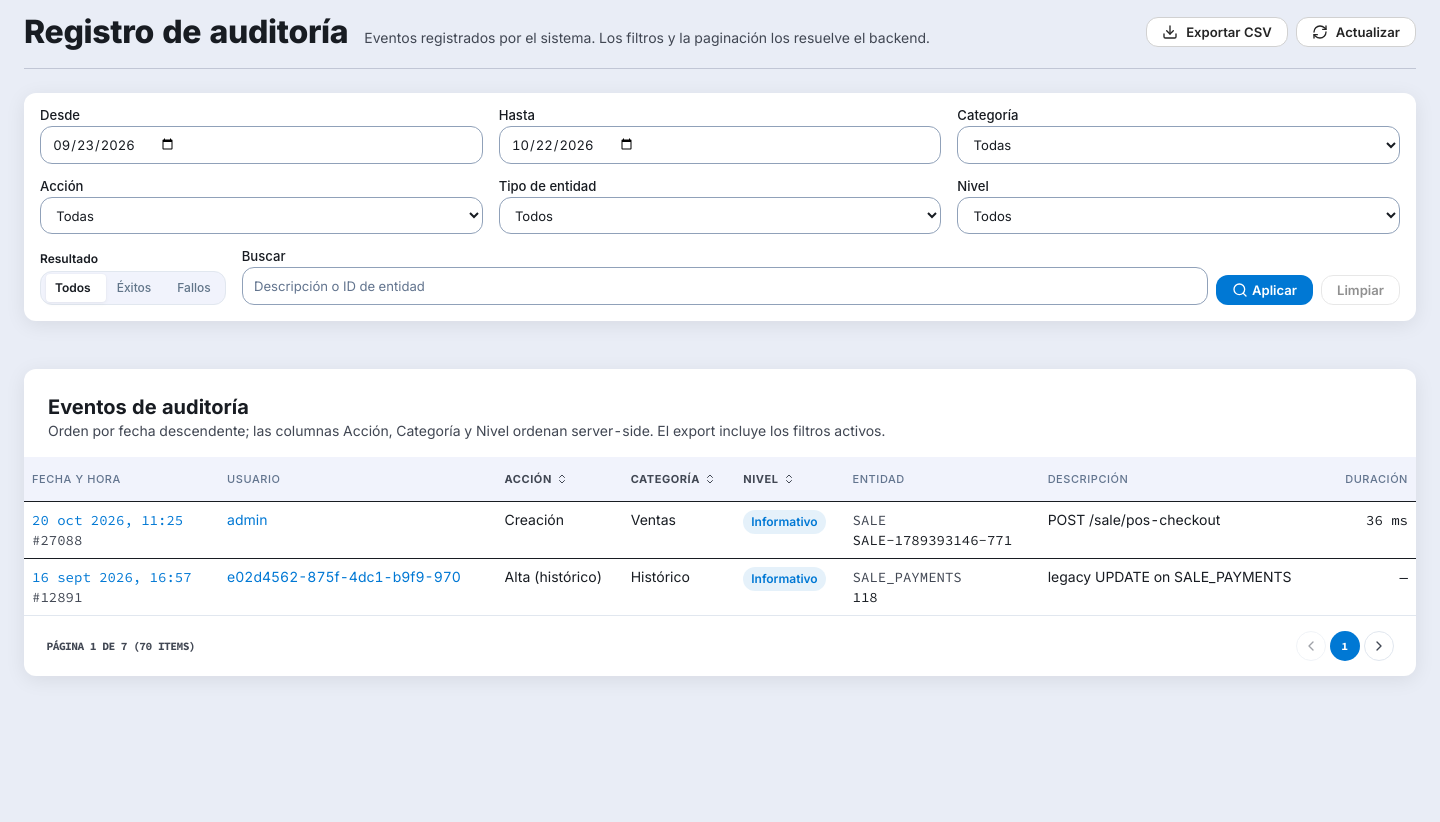
it: AuditLogsPage (F10) › exporta los filtros activos por CSV y confirma la descarga
Expected: the table with test id "audit-logs-table" is shown, [24,457,1416,615]
Select "Error" in the dropdown labelled "Nivel": (1179, 216) [957,197,1400,234]
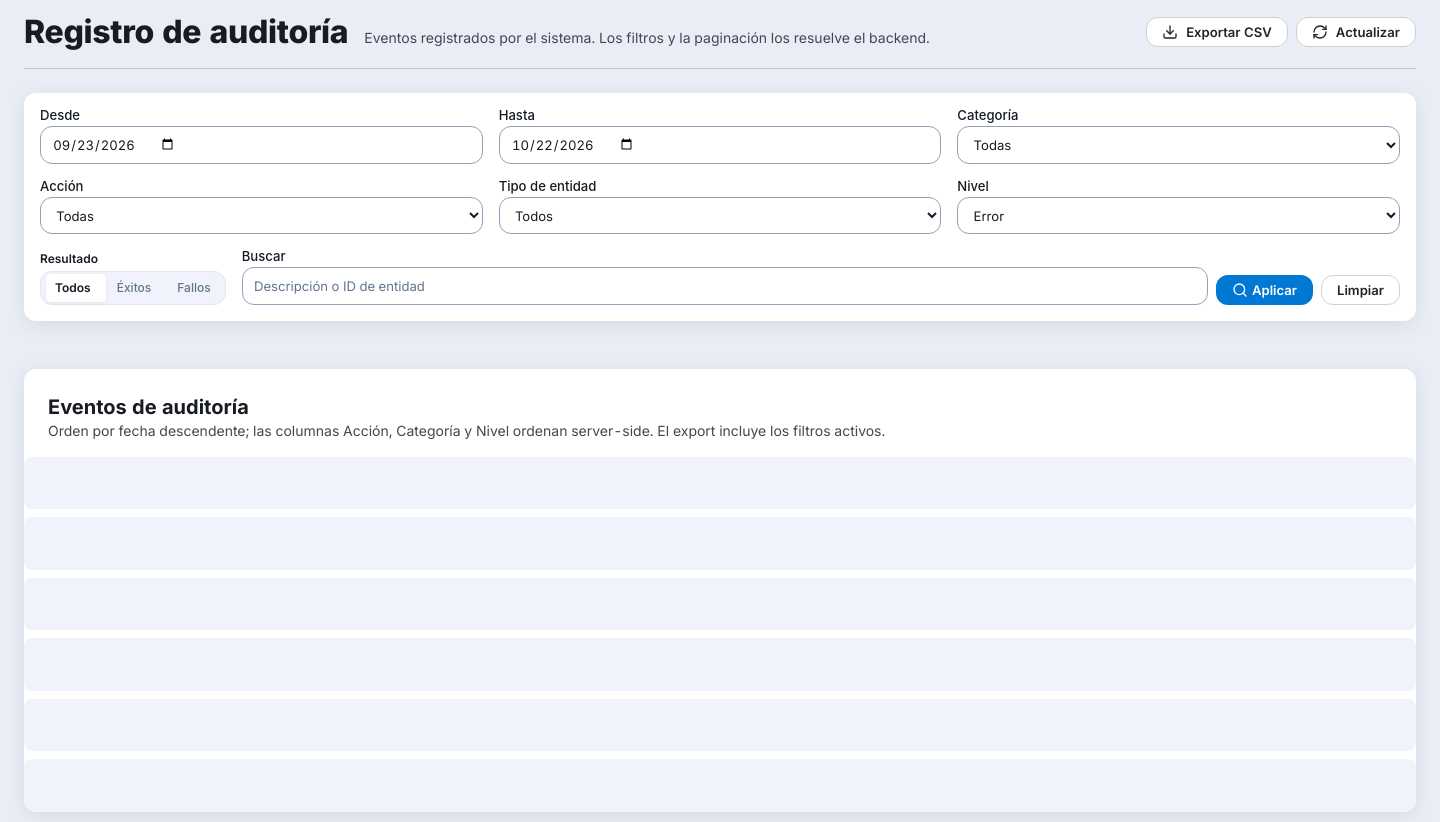
Click the button with test id "audit-export": (1217, 32) [1146,17,1288,47]
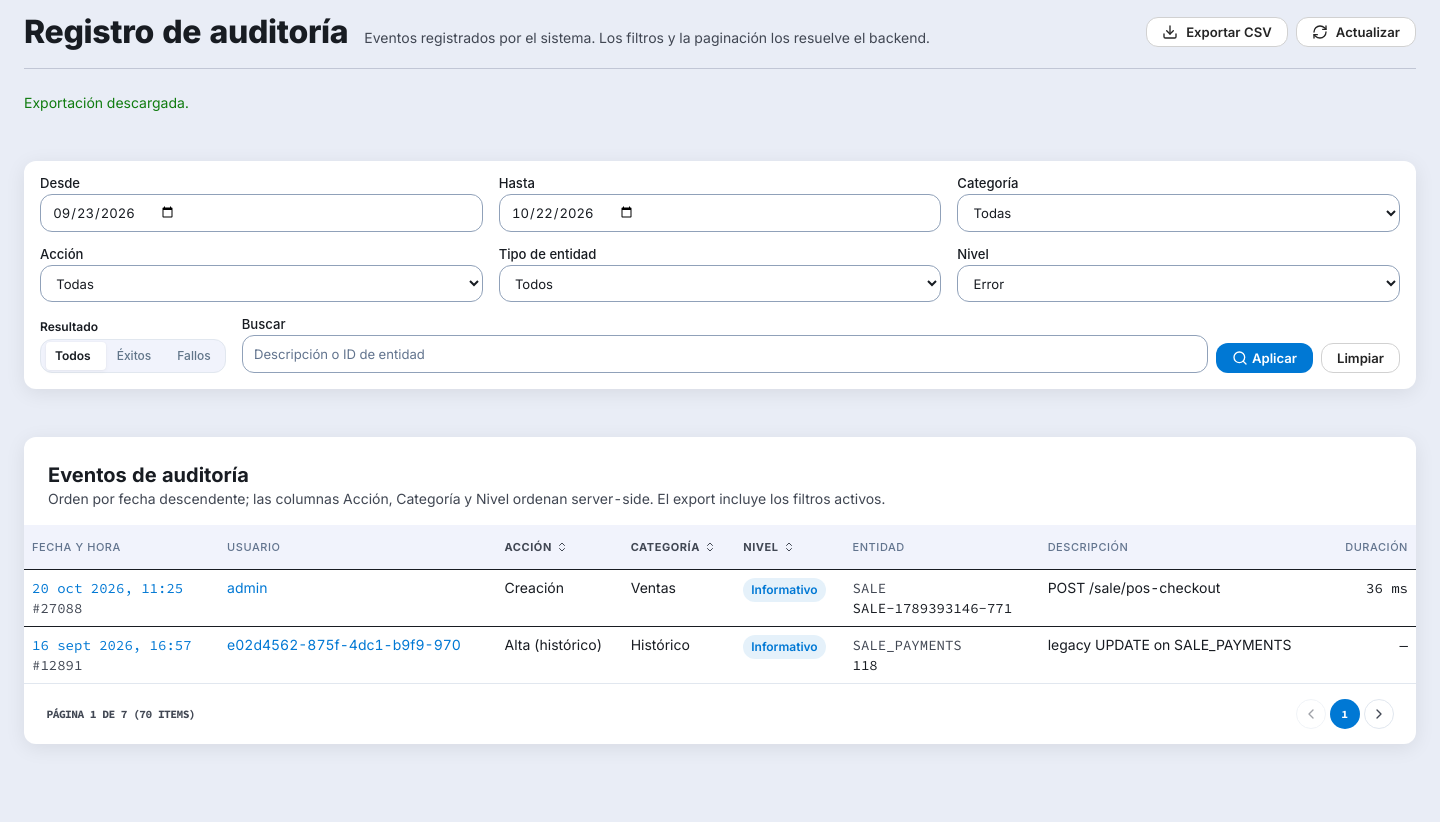
Expected: the message "Exportación descargada." is shown, [24,94,189,111]
